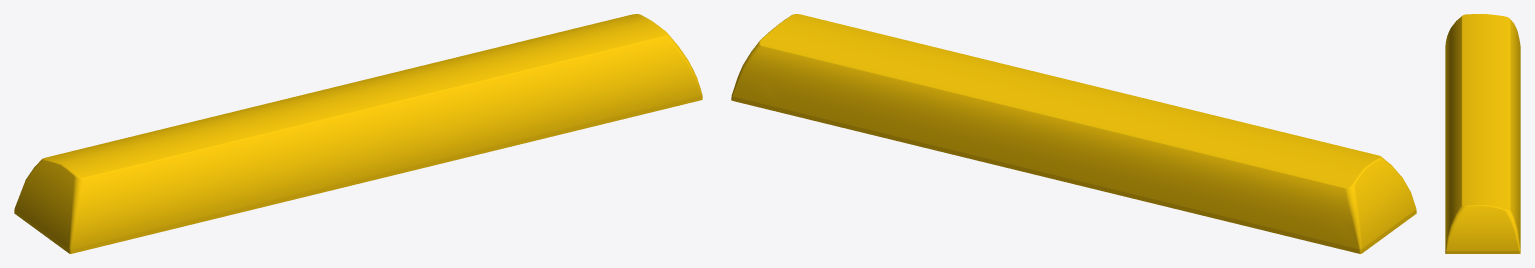
File: KAT_6_25u_r5.glb
3 renders of one model, left to right at view 1: azimuth 30°, elevation 25°; view 2: azimuth 150°, elevation 25°; view 3: azimuth 270°, elevation 25°, orthographic. The views are drawn at different scales.
Parts seen in each view (by area): view 1: Object.078; view 2: Object.078; view 3: Object.078.
Boxes of the visible parts, bbox=[...] form: Object.078: bbox=[14, 14, 702, 253]; Object.078: bbox=[731, 14, 1416, 253]; Object.078: bbox=[1445, 14, 1520, 253].
Bounding box in the file's own units: 118 × 11.17 × 18.2.
